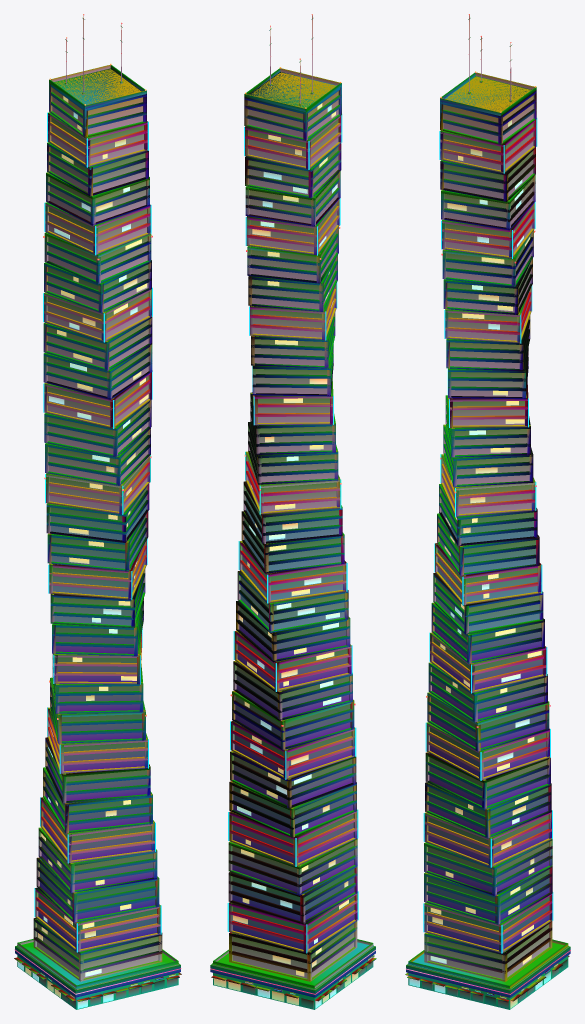
File: Landmark_Twist.fbx
3 renders of one model, left to right at view 1: azimuth 30°, elevation 25°; view 2: azimuth 150°, elevation 25°; view 3: azimuth 330°, elevation 25°, orthographic.
Visible parts, largest first — view 1: Landmark_Twist_LOD0; view 2: Landmark_Twist_LOD0; view 3: Landmark_Twist_LOD0.
Boxes of the visible parts, x1,y1,x2,y2 form: Landmark_Twist_LOD0: [14, 14, 181, 1009]; Landmark_Twist_LOD0: [210, 14, 376, 1009]; Landmark_Twist_LOD0: [405, 14, 570, 1009].
Size of what is drawn, in the model's own units: 42.8 by 362 by 42.8.
